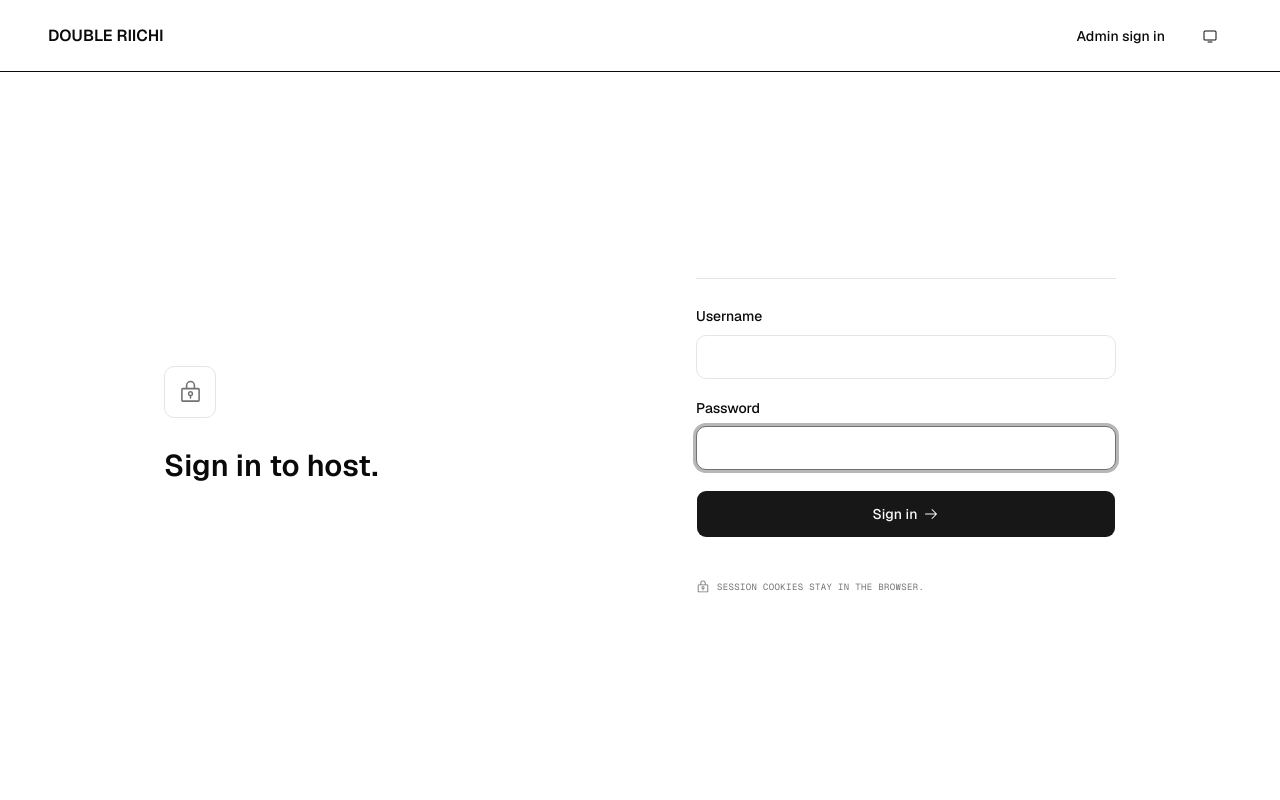
Test: opens the real Admin shell directly after accepted login without an interstitial
Type "host" into the field labelled "Username" at (906, 356), box [696,334,1116,378]
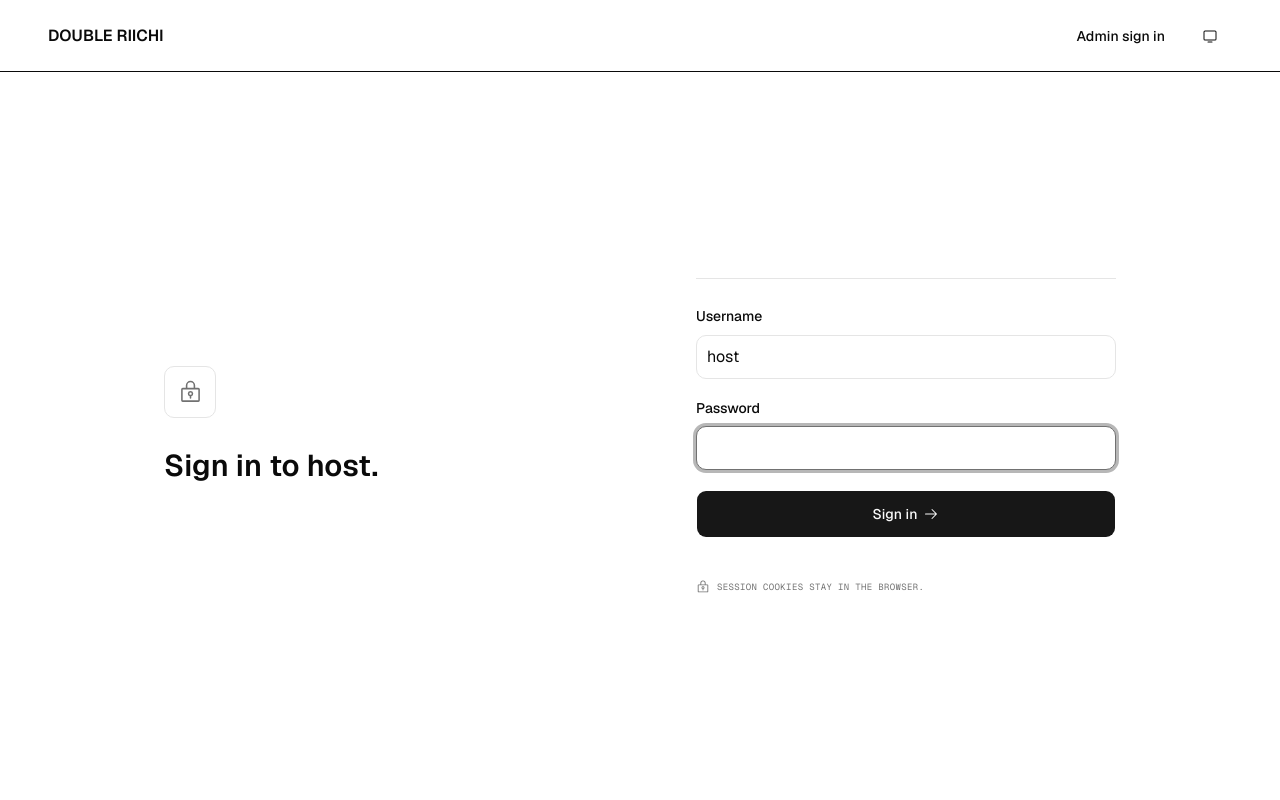
Type "secret" into the password field labelled "Password" at (906, 448), box [696,426,1116,470]
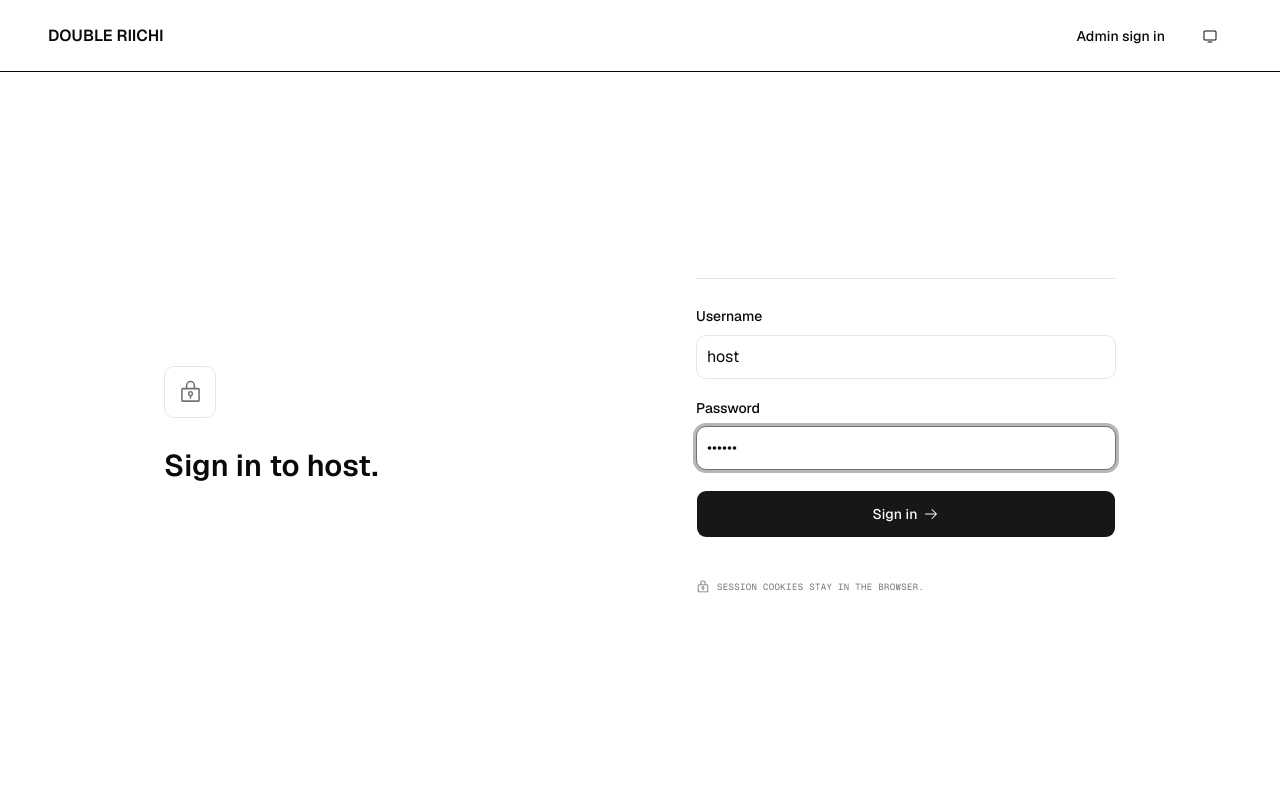
Click the button "Sign in" at (906, 514), box [696,490,1116,538]
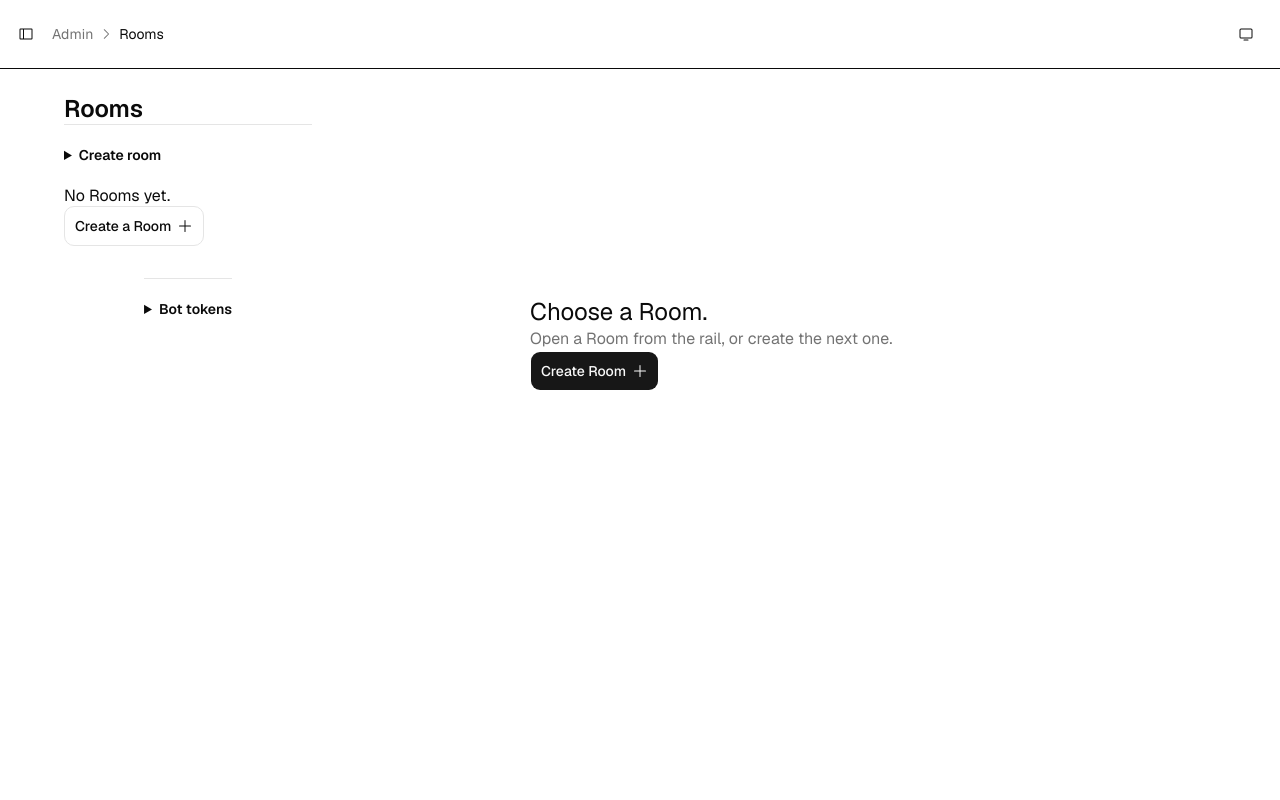
expect the heading "Rooms" is shown: met, box [64,93,143,124]
expect the label labelled "Password" is gone: met
